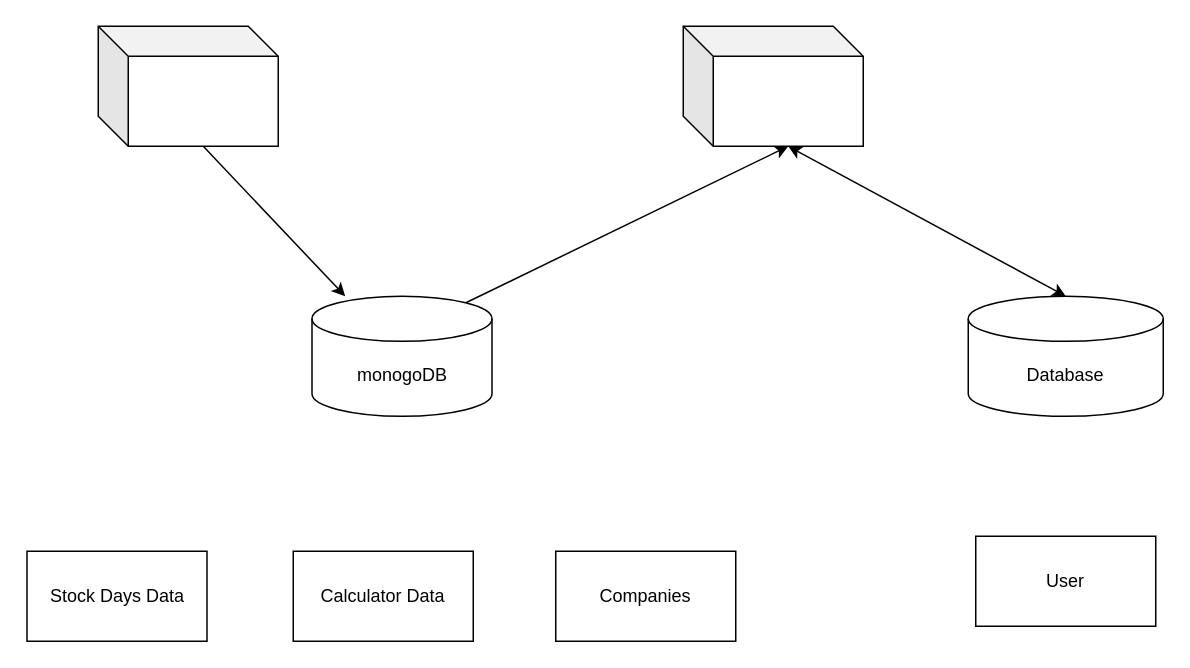
Image size: 1190x668. Some labels were removed from this diagram. The shapes that lost their labels are listed below. From the top down, each one's box as (x1, y1, x2, y2) in pixels, then its label:
(97, 25, 278, 146): Python Flask
(682, 25, 863, 146): Laravel
